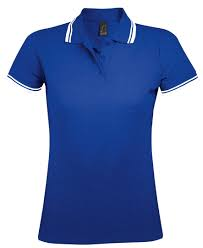S_polo shirt: (8, 14, 197, 242)
